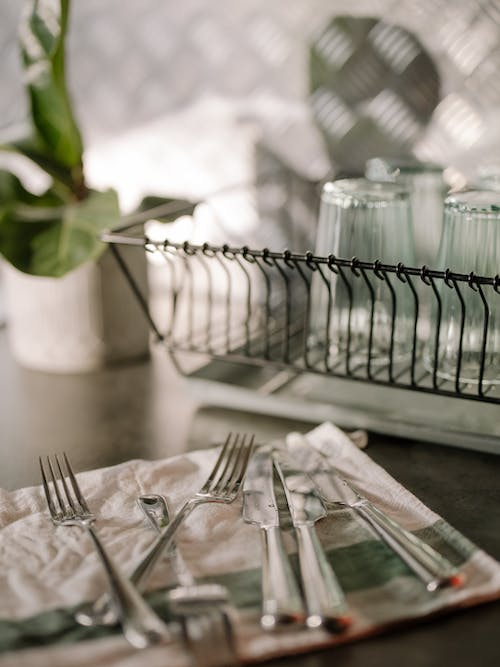knife: (288, 423, 463, 595), (270, 447, 356, 636), (239, 442, 308, 630)
